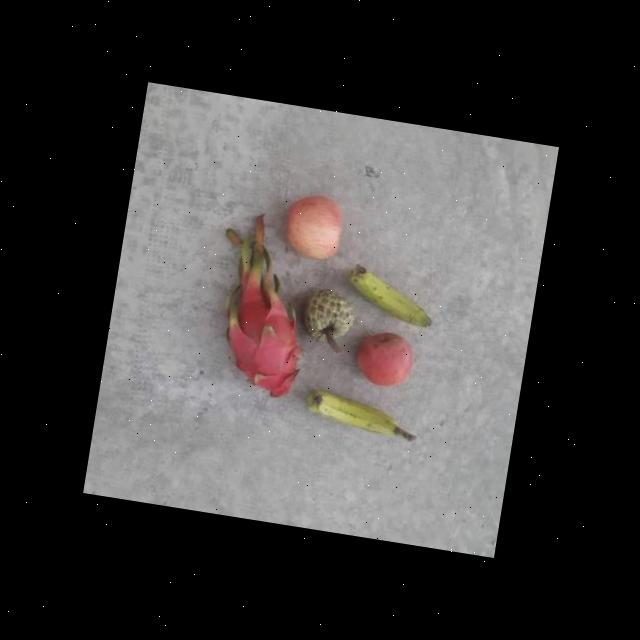Sakya fruit: (296, 284, 359, 350)
apple: (276, 192, 348, 264), (351, 326, 418, 394)
banana: (338, 262, 444, 334), (308, 385, 404, 443)
pitaya: (213, 286, 310, 402)
